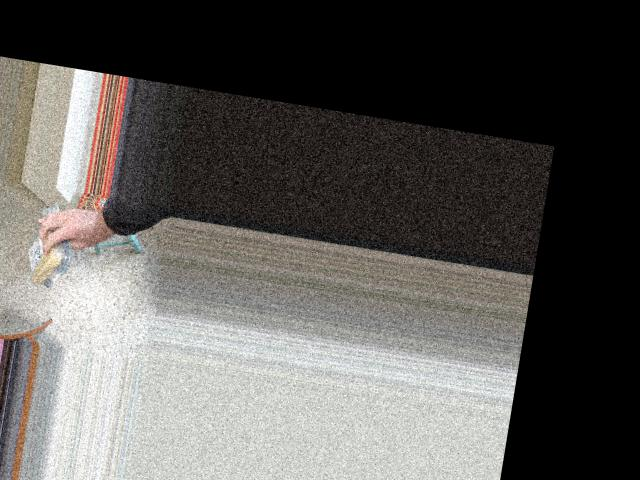cheese: (23, 210, 71, 289)
